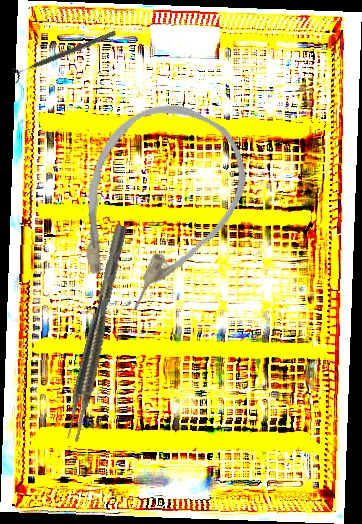Cannula: (42, 81, 267, 329)
Fixation Ring: (9, 24, 119, 85)
Tissue Forceps: (62, 224, 134, 443)
